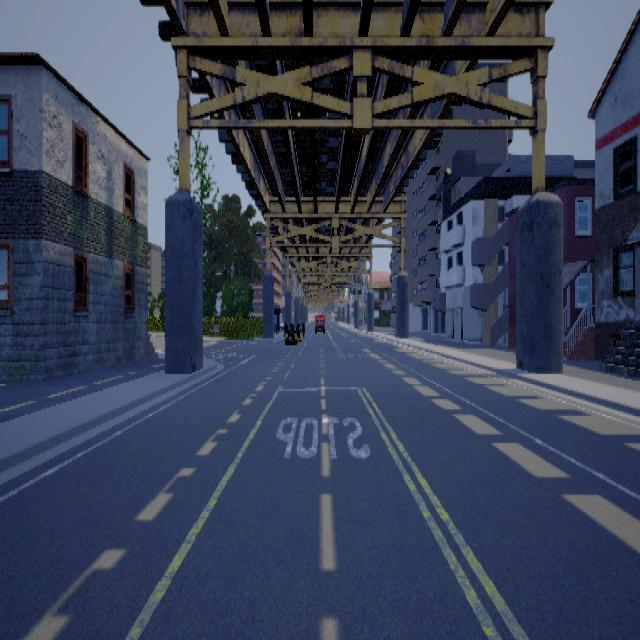vehicle: (313, 314, 328, 334)
